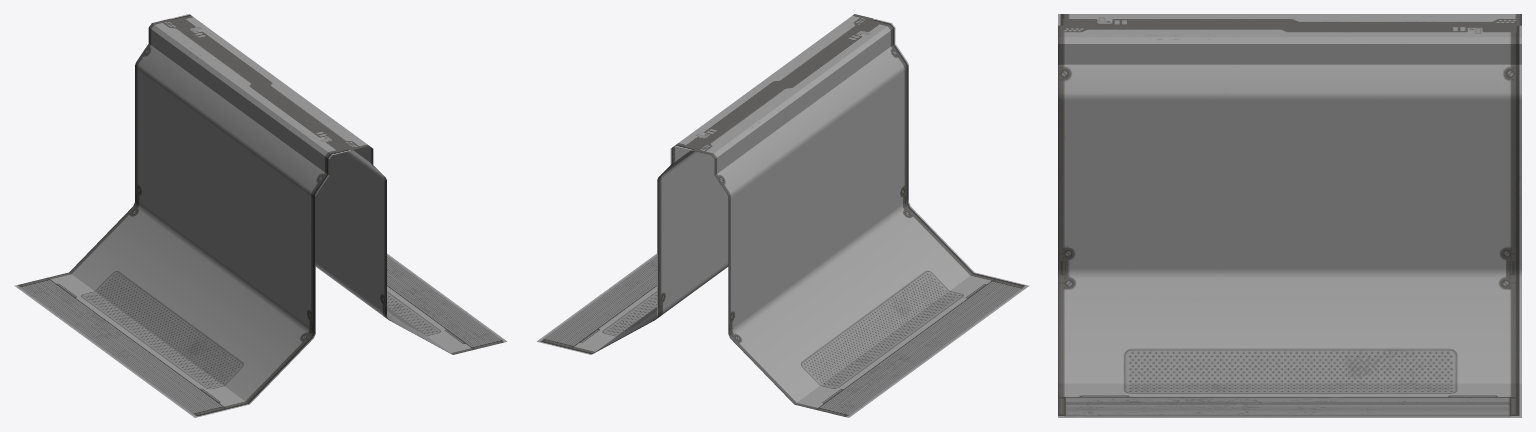
Rendered from A_Wall_Simple_4x4.FBX.
3 renders of one model, left to right at view 1: azimuth 30°, elevation 25°; view 2: azimuth 150°, elevation 25°; view 3: azimuth 270°, elevation 25°, orthographic. The views are drawn at different scales.
Parts seen in each view (by area): view 1: A_Wall_Simple_4x4; view 2: A_Wall_Simple_4x4; view 3: A_Wall_Simple_4x4.
Boxes of the visible parts, <box> form: A_Wall_Simple_4x4: <box>14,14,506,417</box>; A_Wall_Simple_4x4: <box>537,14,1029,417</box>; A_Wall_Simple_4x4: <box>1058,14,1521,417</box>.
Size of the model in its own units: 400 by 280 by 400.
